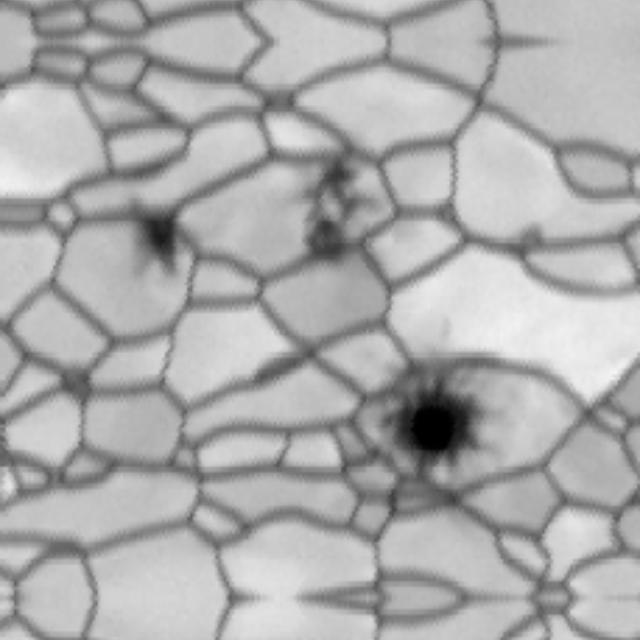good_void: (345, 319, 548, 523), (272, 135, 406, 286), (122, 194, 185, 283), (501, 217, 556, 268), (51, 357, 102, 406)
